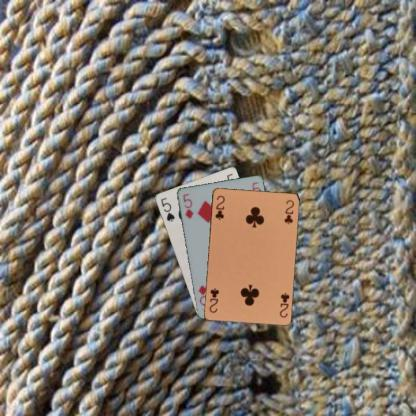2c: (276, 290, 290, 318), (213, 192, 226, 221)
5d: (180, 191, 195, 220)
5s: (158, 195, 176, 222)
